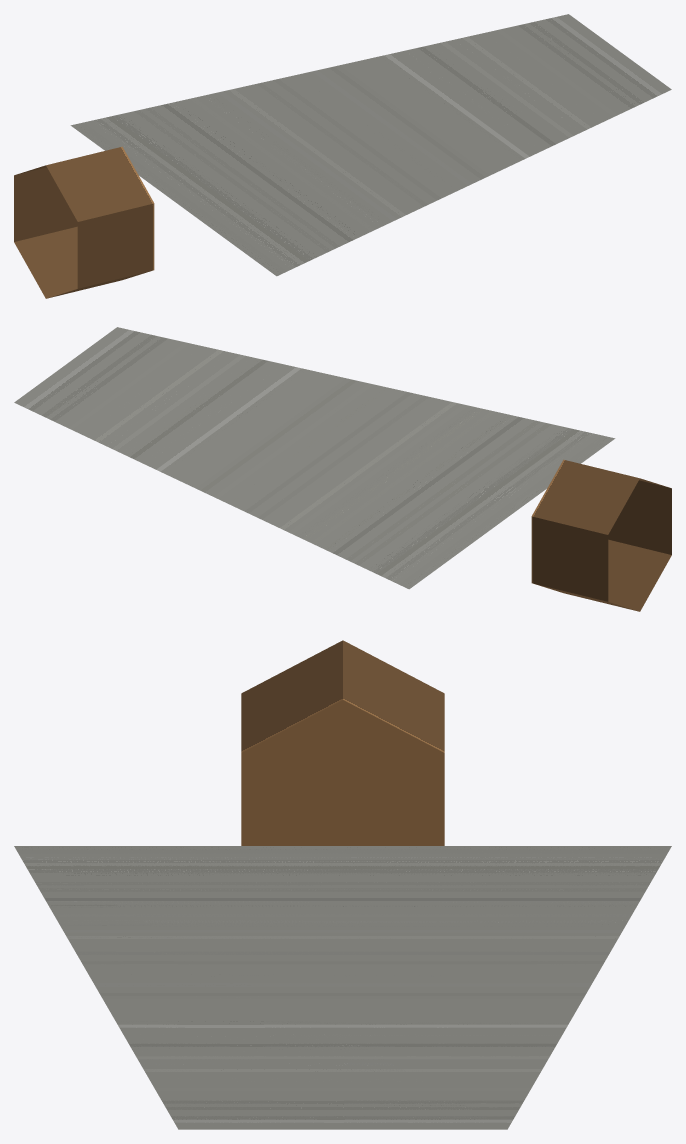
File: QuatTreoTuong_Canh.glb
3 renders of one model, top to bottom at view 1: azimuth 30°, elevation 25°; view 2: azimuth 150°, elevation 25°; view 3: azimuth 270°, elevation 25°, orthographic. The views are drawn at different scales.
Visible parts, largest first — view 1: geometry_0; view 2: geometry_0; view 3: geometry_0.
Part boxes in pixels (x1,y1,x2,y2): geometry_0: (14, 14, 671, 298); geometry_0: (14, 327, 671, 611); geometry_0: (14, 640, 671, 1129).
Bounding box in the file's own units: 0.09 × 0.02 × 0.056.
1 material, 1 textured.
